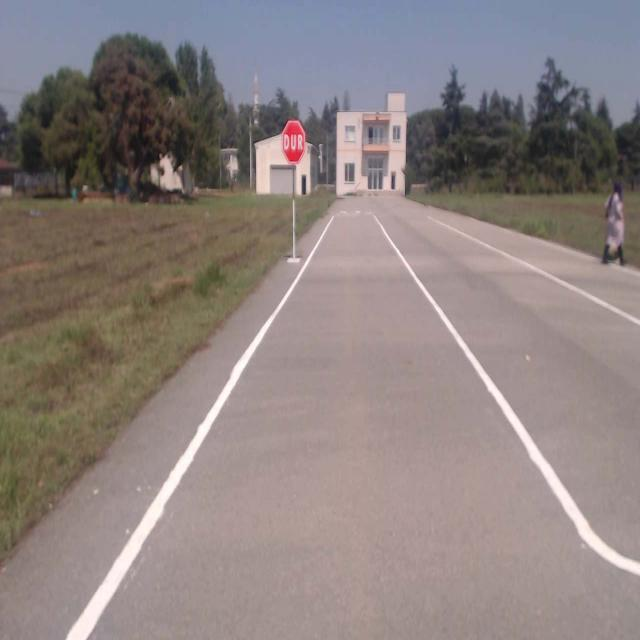dur: (282, 121, 304, 163)
